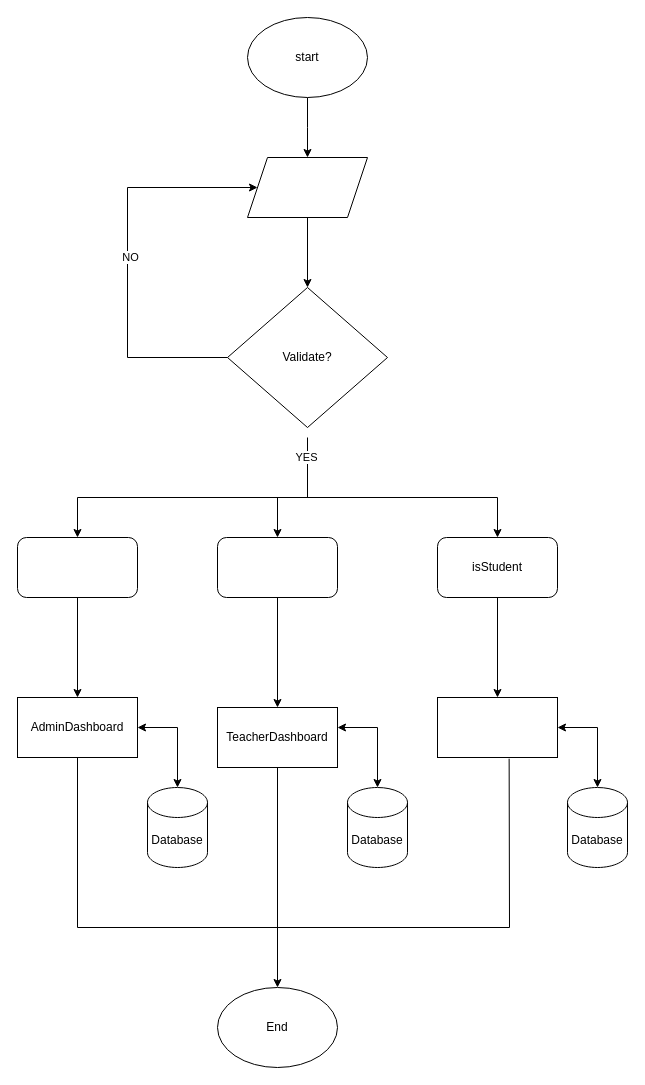
This 645x1085 diagram has some shape labels left out. Each missing label, with the centre of its shape:
Enter Credentials: point 307,187
isAdmin: point 77,567
isTeacher: point 277,567
StudentDashboard: point 497,727
